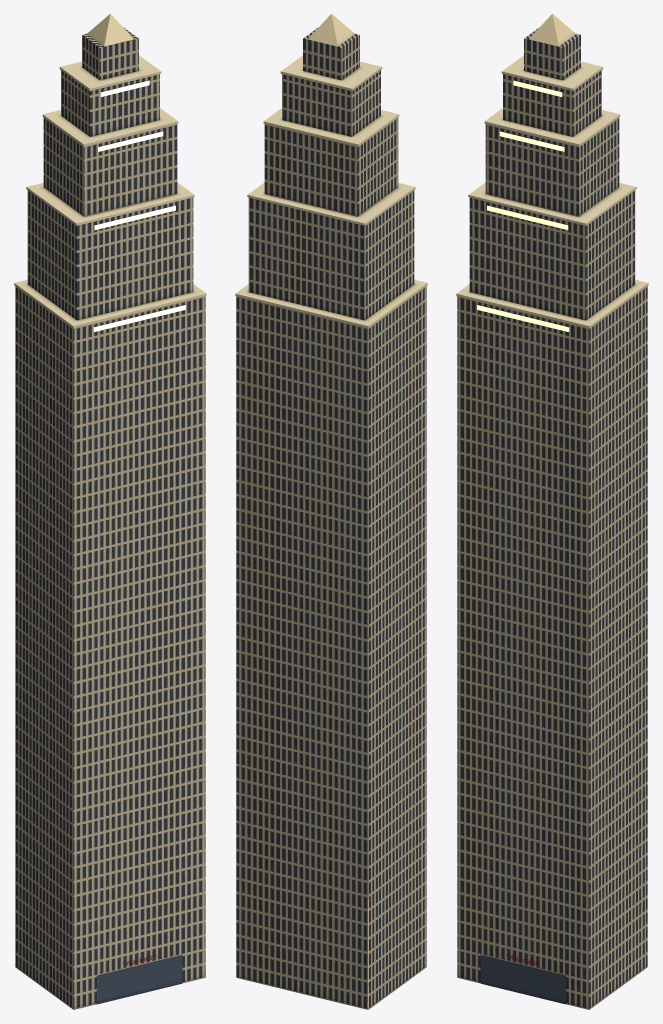
Rendered from wells_fargo_mpls.glb.
3 views of the same model, side by side, from view 1: azimuth 30°, elevation 25°; view 2: azimuth 150°, elevation 25°; view 3: azimuth 330°, elevation 25° (orthographic).
Parts seen in each view (by area): view 1: wells_fargo_mpls; view 2: wells_fargo_mpls; view 3: wells_fargo_mpls.
Part boxes in pixels (x1,y1,x2,y2): wells_fargo_mpls: [14, 14, 206, 1009]; wells_fargo_mpls: [235, 14, 427, 1009]; wells_fargo_mpls: [456, 14, 648, 1009].
Bounding box in the file's own units: 34.4 × 236 × 26.4.
1 material, 1 textured.
